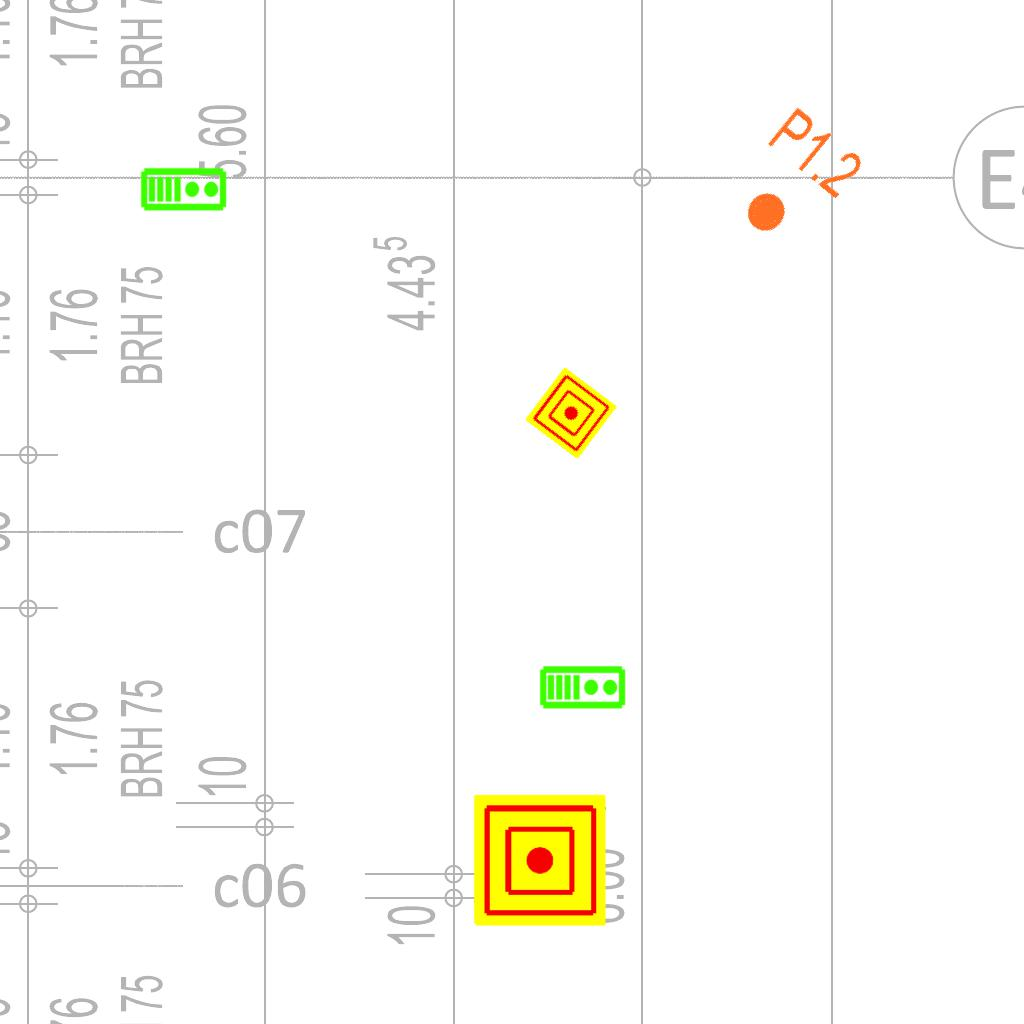Downlight_LED_Einbauleuchten_Flur: (717, 101, 870, 261)
Gegensprechanlage_mit_Video: (140, 165, 228, 212), (539, 663, 627, 710)
NAM-Nichtautomatischer_Melder: (474, 794, 606, 926), (524, 366, 618, 460)
